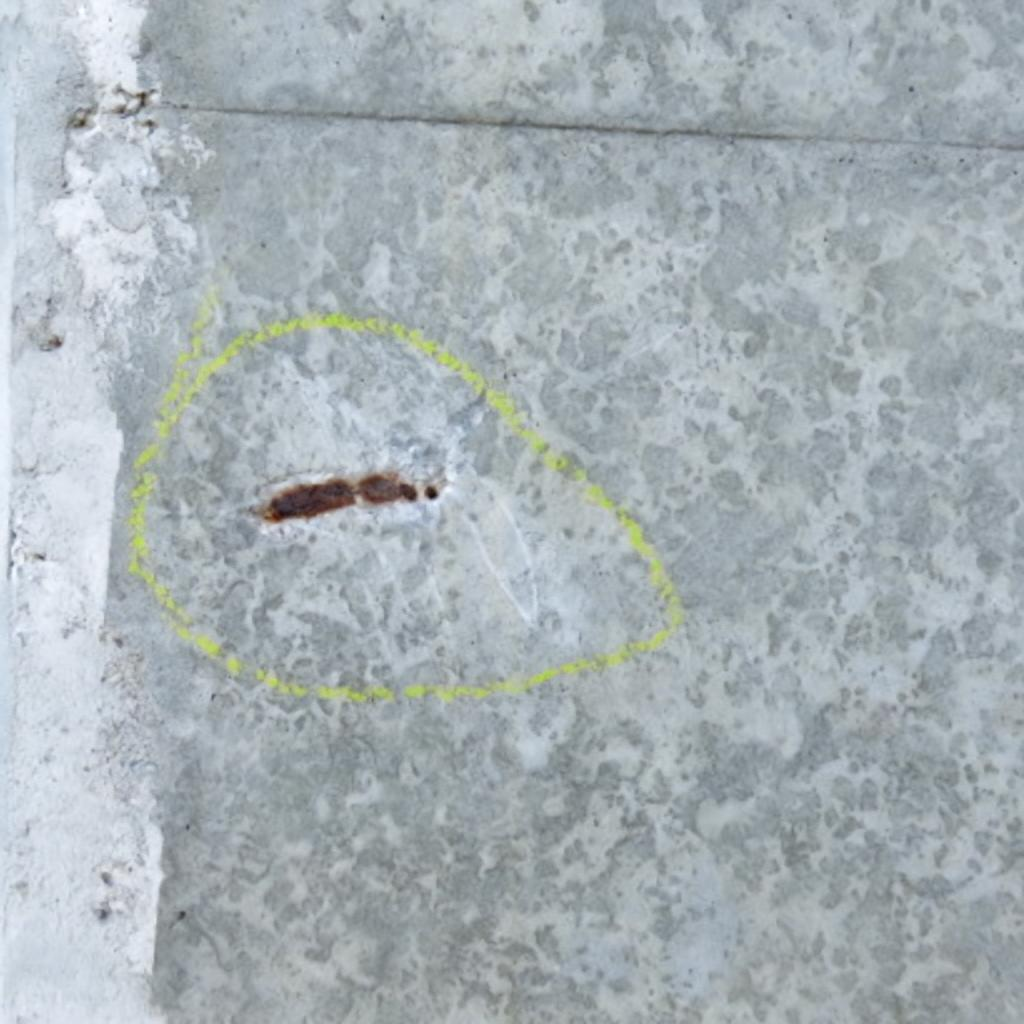exposed_rebar: (262, 472, 418, 521)
